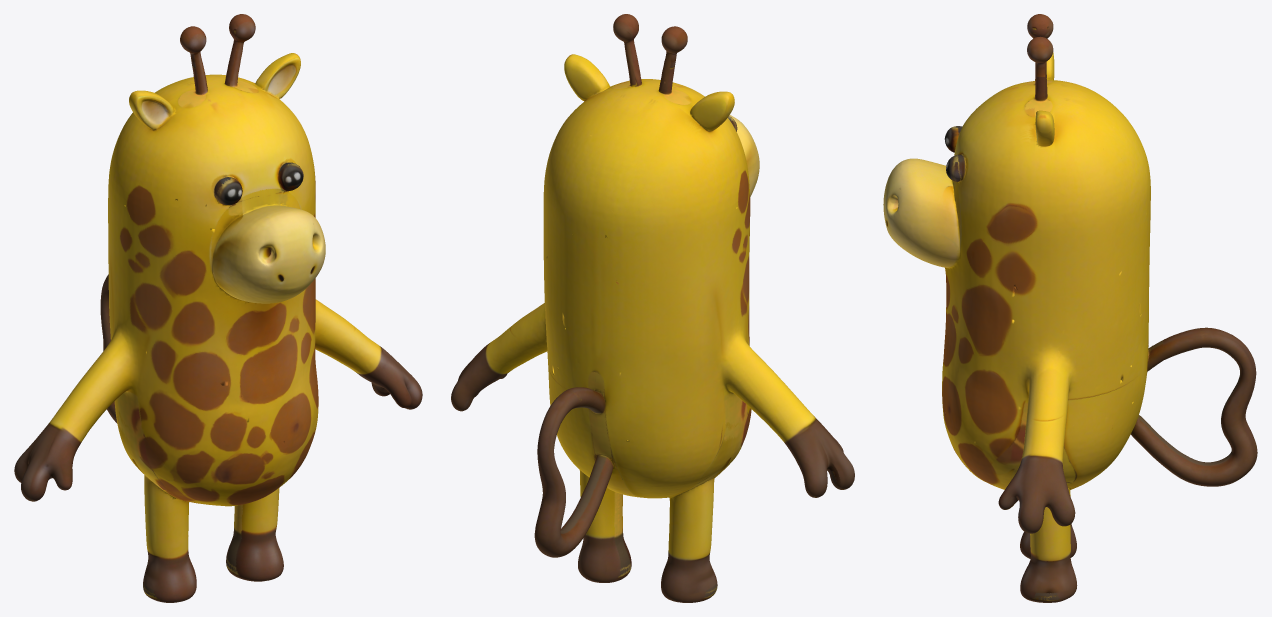
The model's file is GIRAFFE.fbx.
3 renders of one model, left to right at view 1: azimuth 30°, elevation 25°; view 2: azimuth 150°, elevation 25°; view 3: azimuth 270°, elevation 25°, orthographic. The views are drawn at different scales.
Visible parts, largest first — view 1: Mesh_0.185; view 2: Mesh_0.185; view 3: Mesh_0.185.
Part boxes in pixels (x1,y1,x2,y2): Mesh_0.185: (14, 14, 422, 602); Mesh_0.185: (451, 14, 854, 602); Mesh_0.185: (883, 14, 1257, 602).
Size of the model in its own units: 148 by 200 by 124.
1 material, 1 textured.
